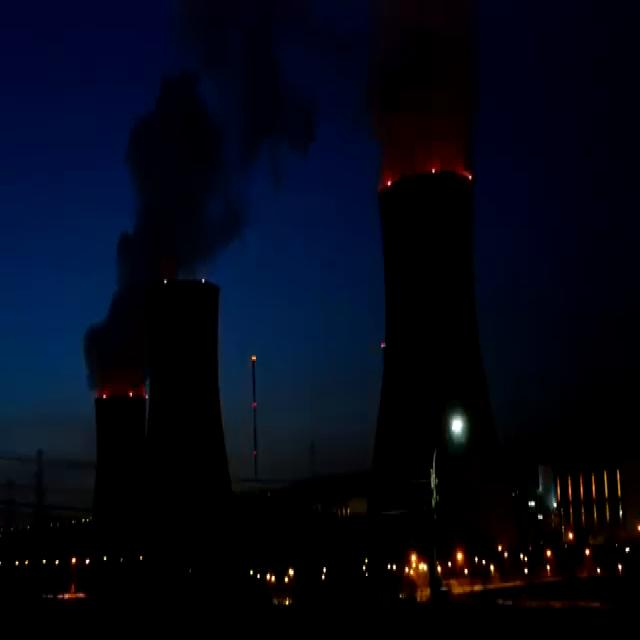smoke: (85, 21, 308, 395), (368, 0, 480, 192)
